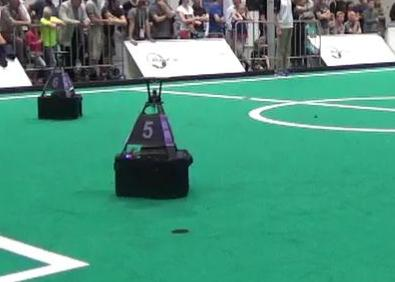robot: (110, 74, 192, 199), (36, 50, 86, 120)
